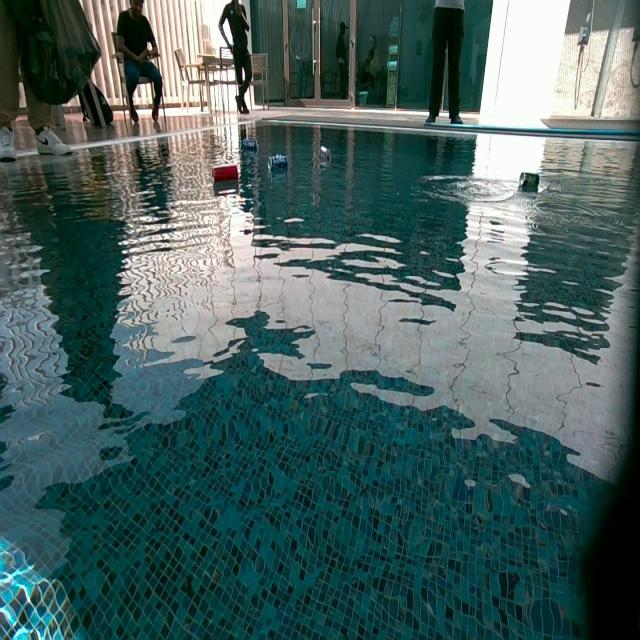Cans: (212, 166, 238, 184), (519, 172, 541, 190), (270, 154, 289, 171), (242, 138, 258, 152), (320, 145, 332, 163)
